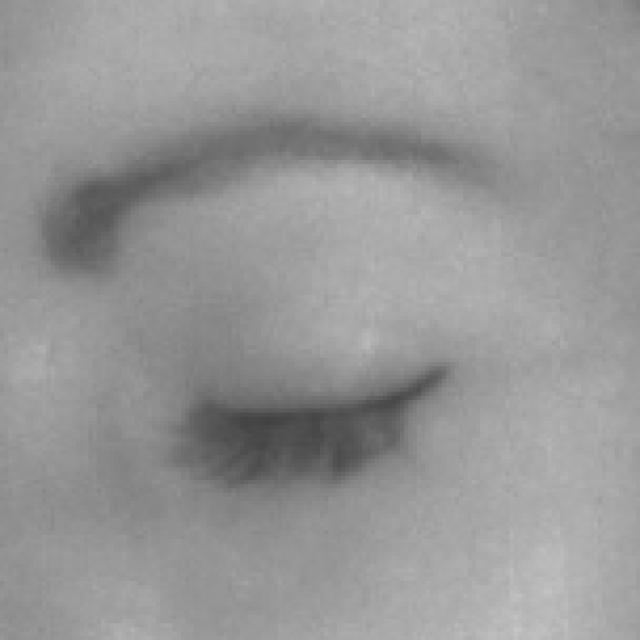Eyeclosed: (183, 271, 451, 570)
